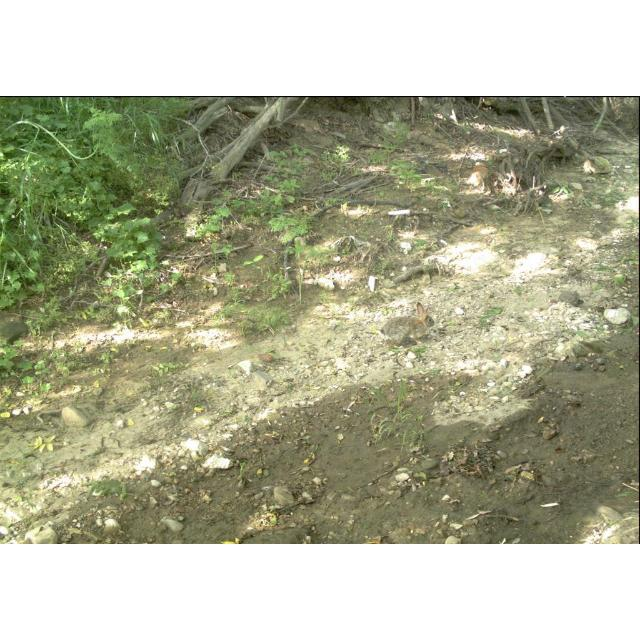animals: (381, 300, 443, 348)
